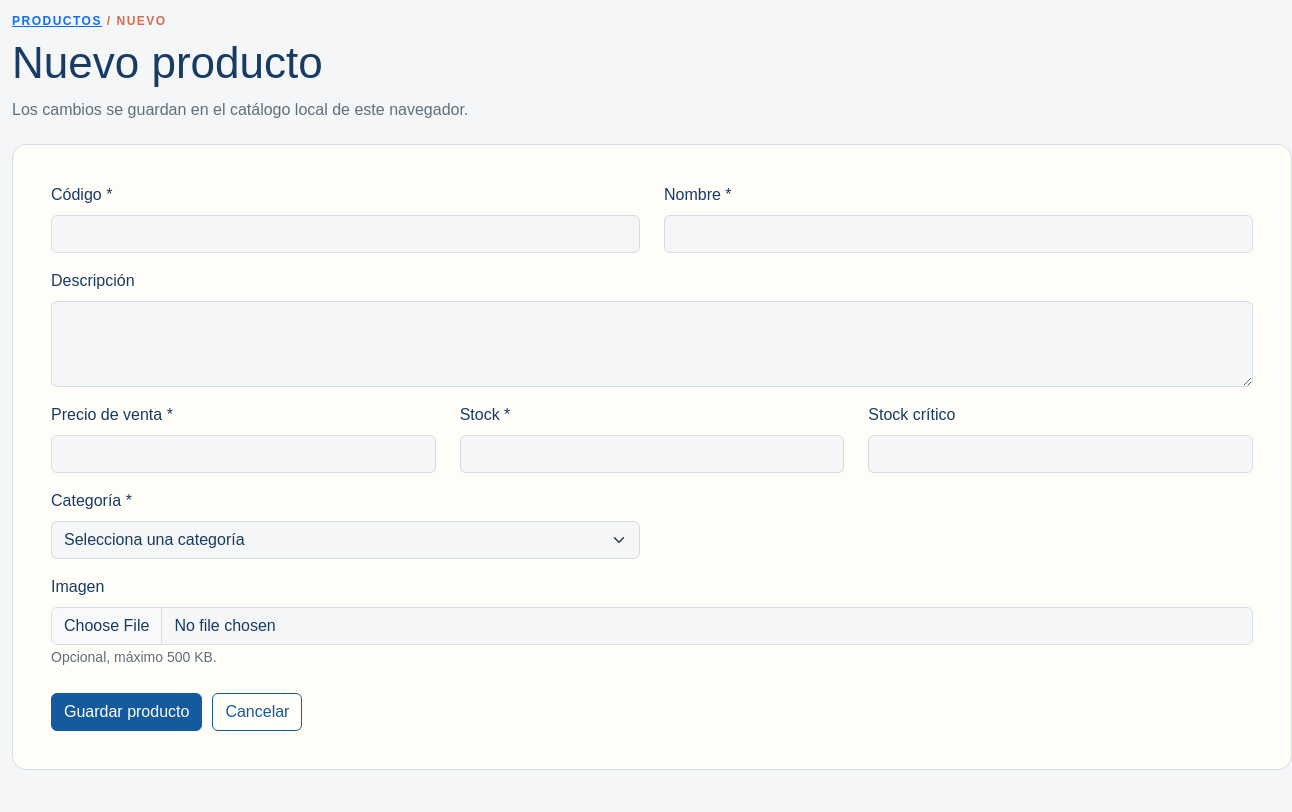
Test: AdminProductoFormContainer › rechaza un código repetido
This screenshot has width=1292, height=812.
In the field labelled "Código *": (346, 234) [51,215,640,253], type "mad1"
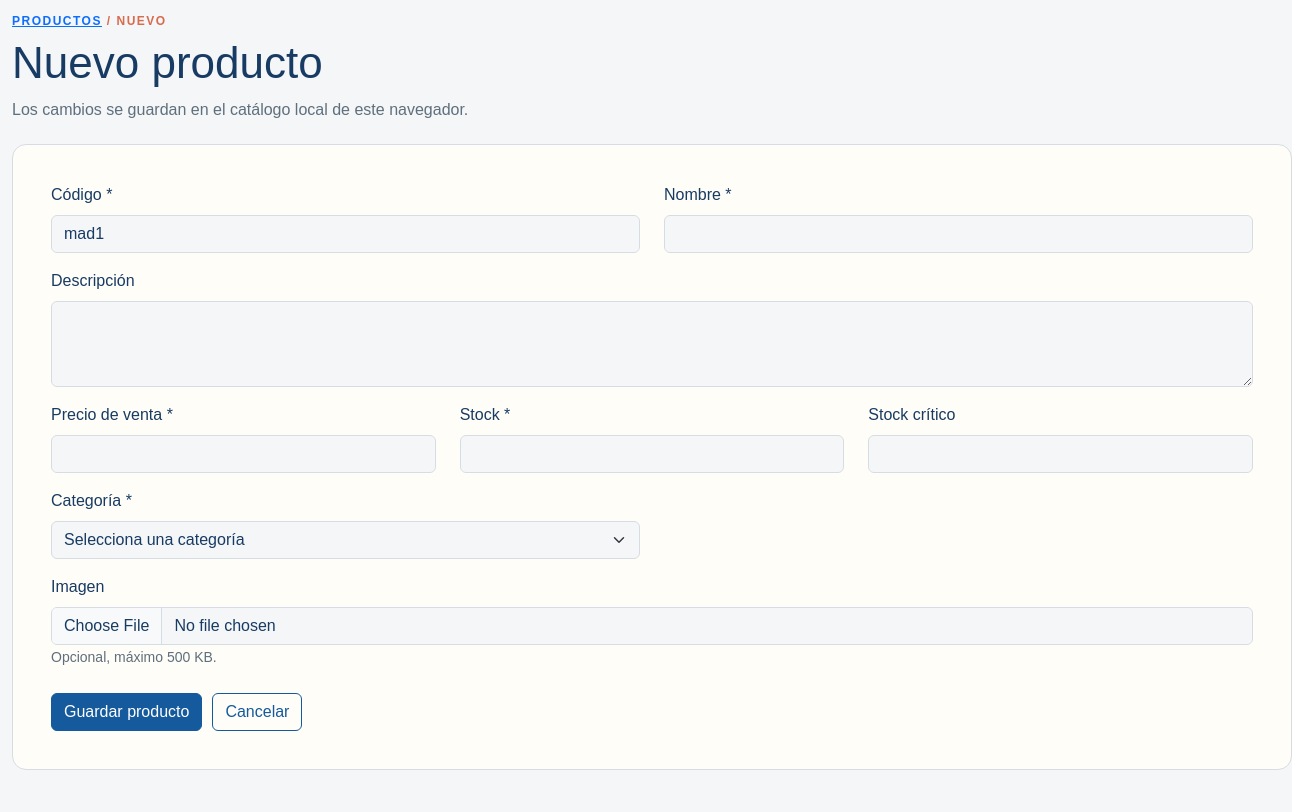
In the field labelled "Nombre *": (958, 234) [664,215,1253,253], type "Pala"
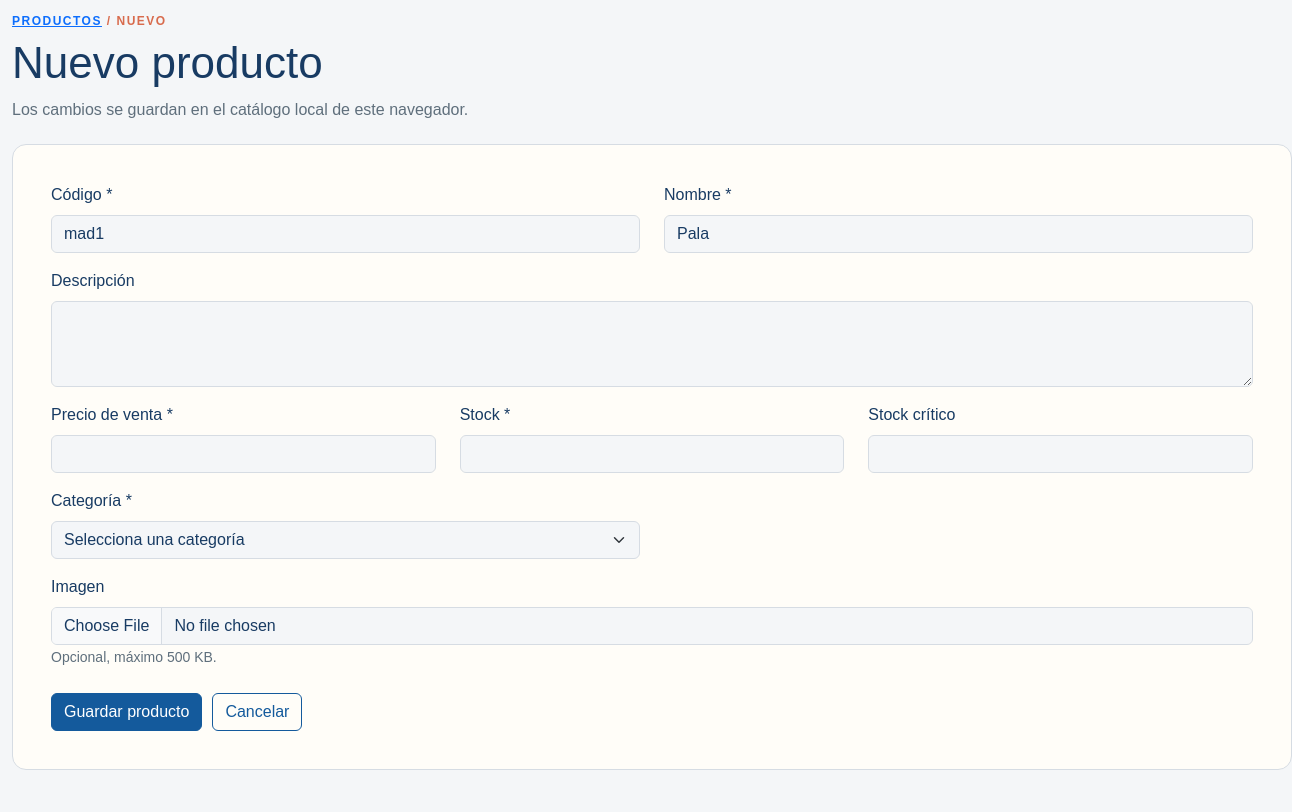
In the number field labelled "Precio de venta *": (243, 454) [51,435,436,473], type "3000"
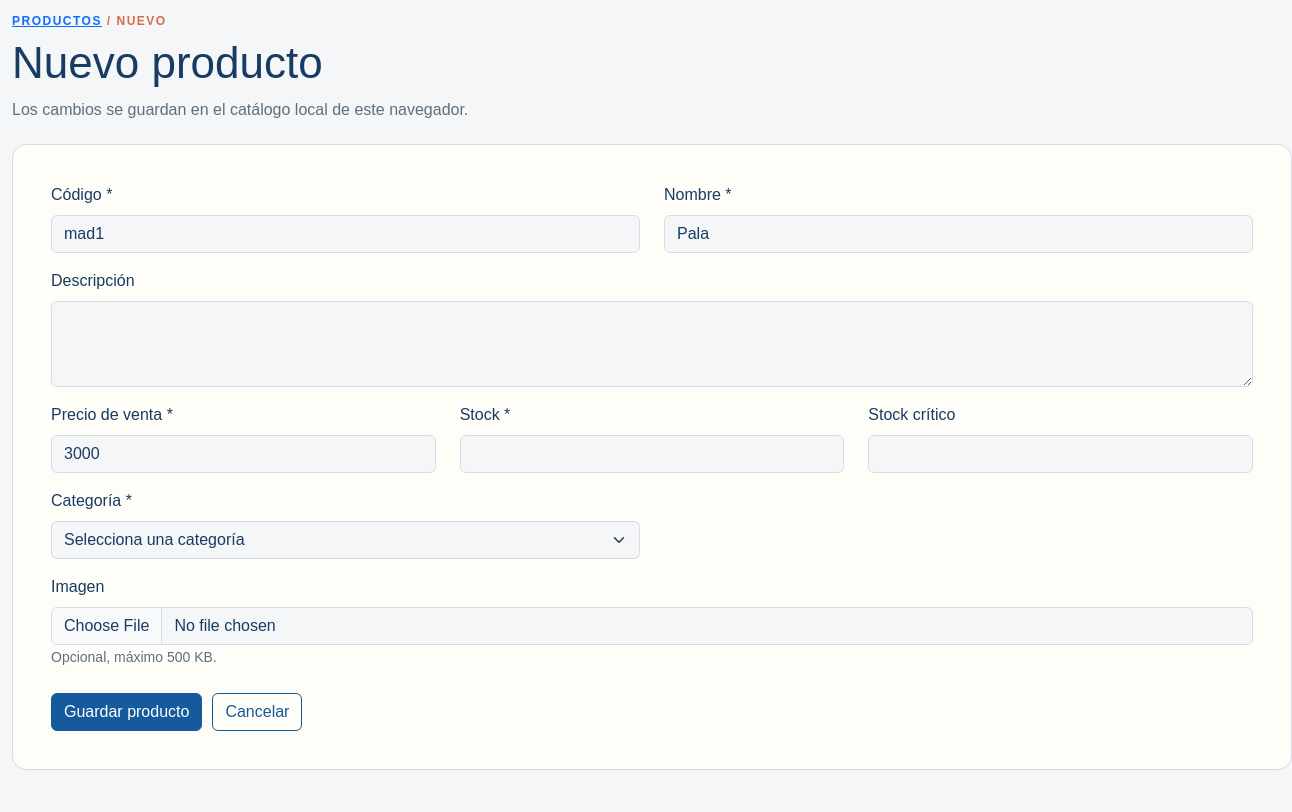
In the number field labelled "Stock *": (652, 454) [460,435,844,473], type "4"
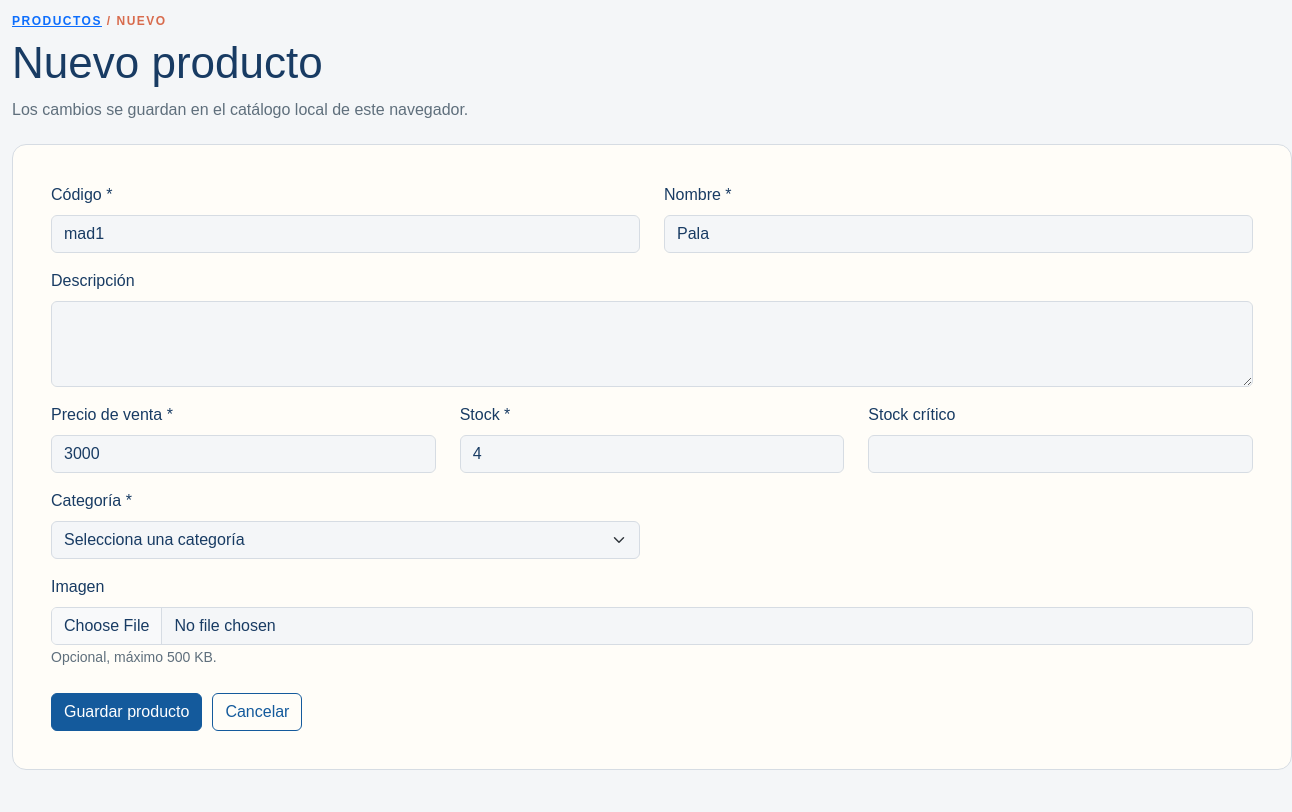
Select "Jardín" in the dropdown labelled "Categoría *": (346, 540) [51,521,640,559]
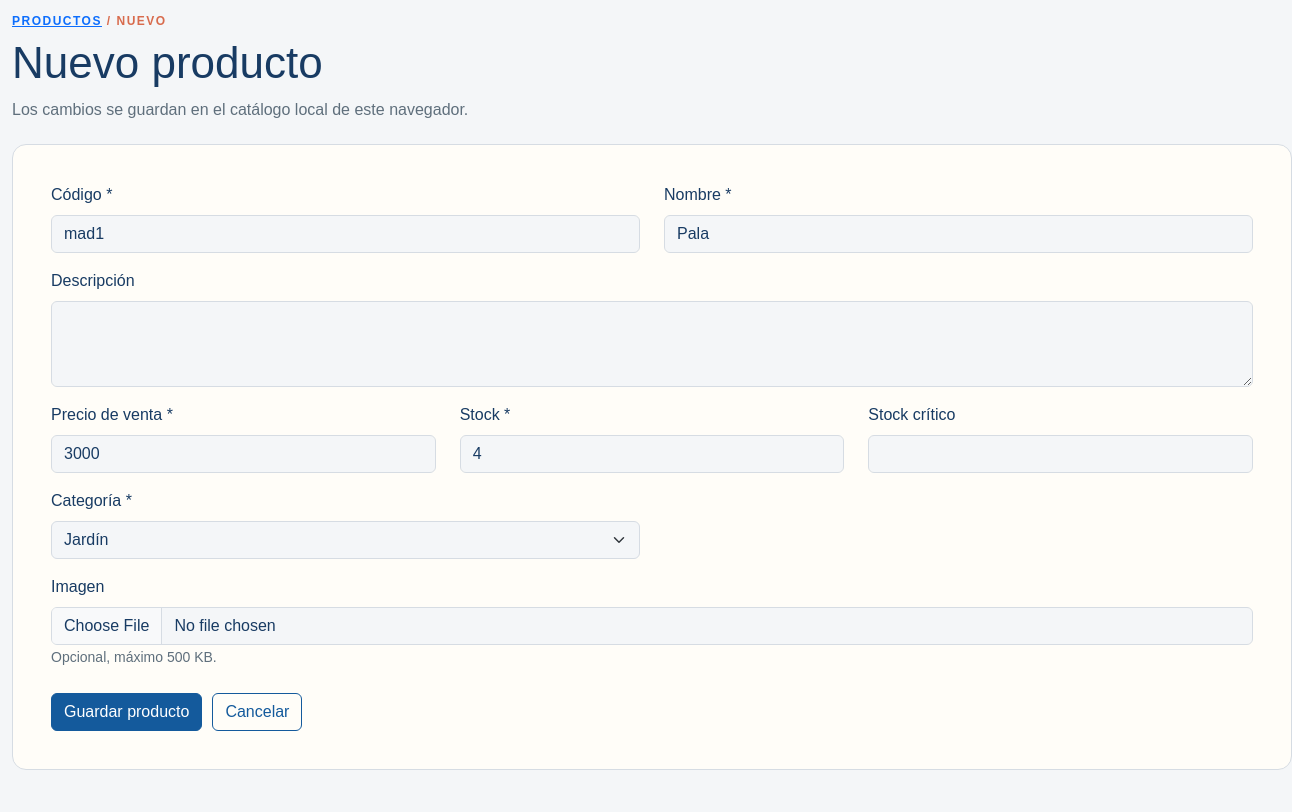
Click the button "Guardar producto": (127, 712) [51,693,202,731]
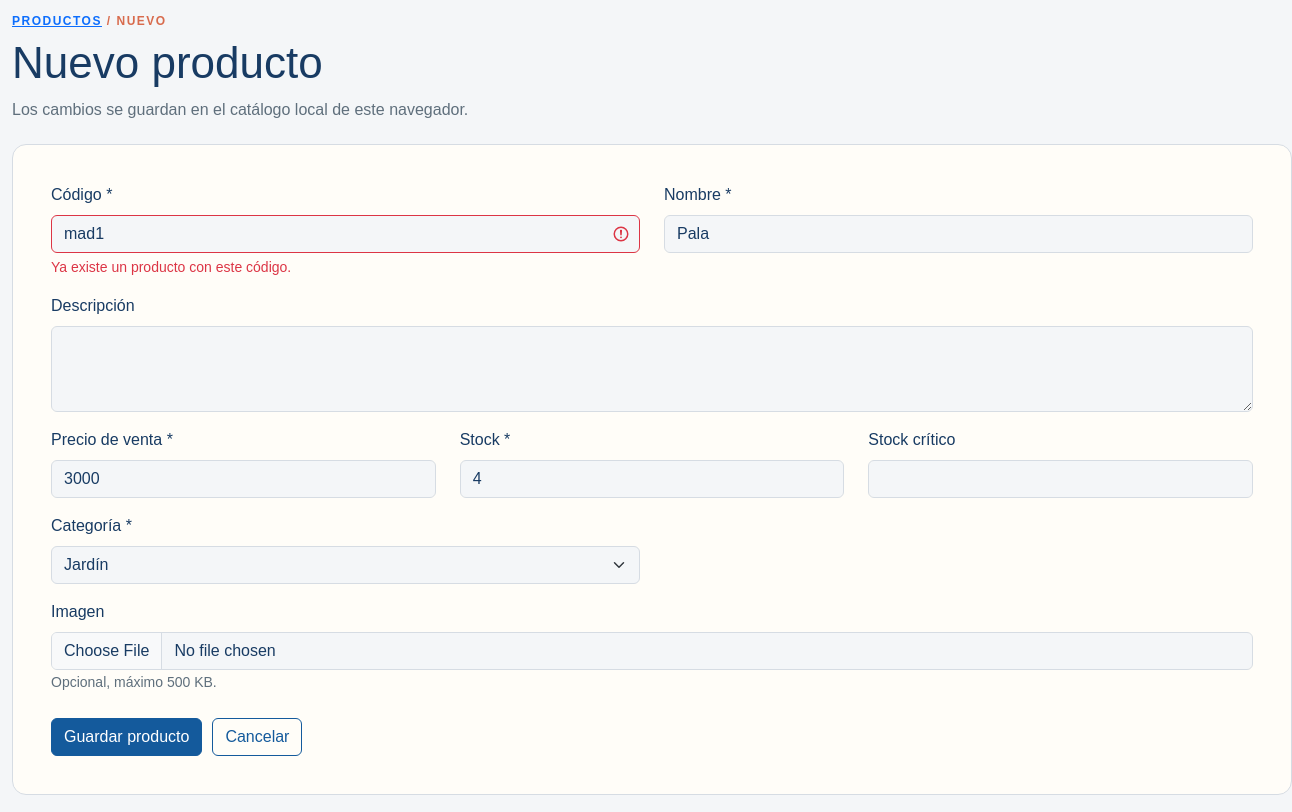
Expected: the text "Ya existe un producto con este código." is shown, [51,259,291,275]
